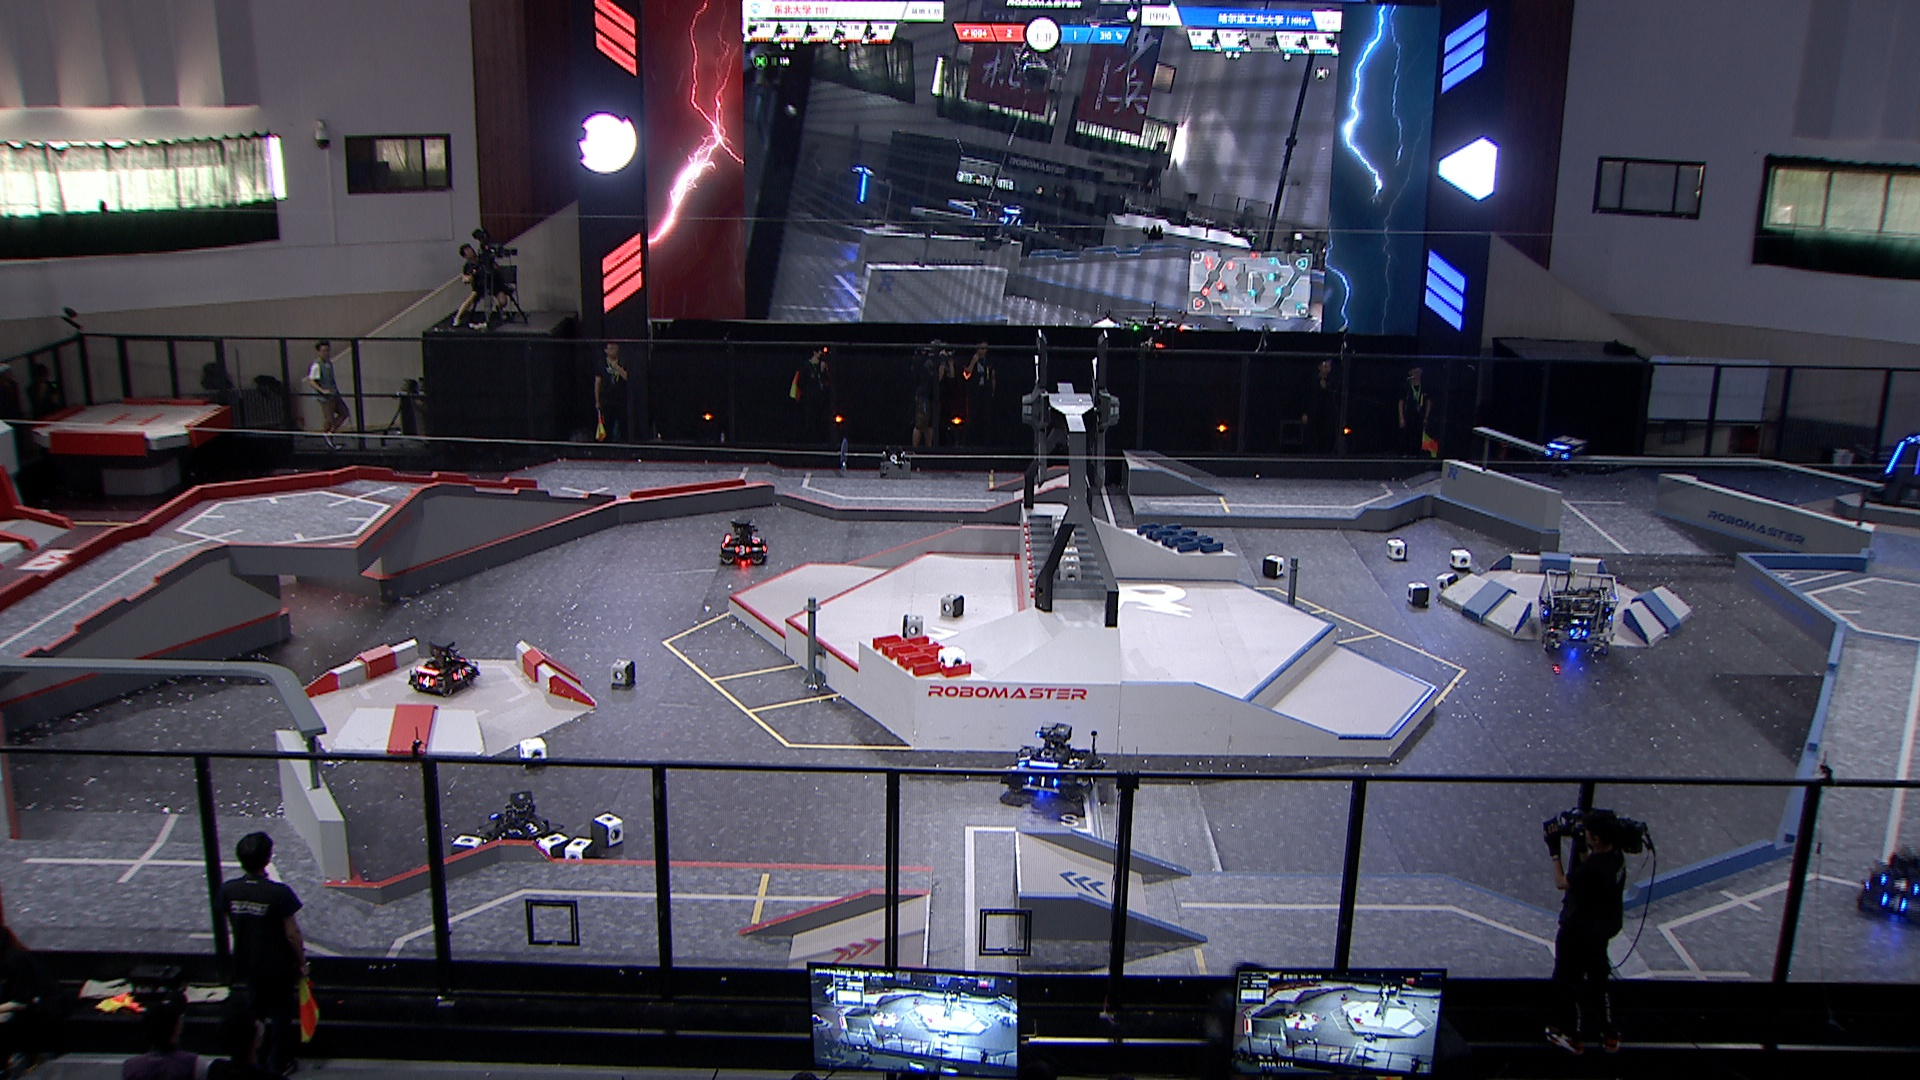armor: (1884, 439, 1907, 477), (1880, 877, 1917, 895), (1880, 897, 1911, 915), (1025, 773, 1058, 789), (517, 820, 545, 836), (1015, 750, 1034, 769), (1911, 444, 1920, 480), (1542, 446, 1567, 458), (732, 543, 752, 556), (417, 674, 436, 687), (1567, 626, 1586, 640), (451, 666, 467, 680), (752, 531, 761, 543)
base: (1865, 425, 1920, 513)
car: (1001, 723, 1105, 802), (1538, 564, 1619, 665), (480, 787, 553, 858), (1859, 847, 1920, 926), (407, 637, 480, 694), (716, 514, 770, 564)
ignore: (827, 161, 884, 225), (992, 202, 1026, 233)
watcher: (1538, 429, 1588, 483)
